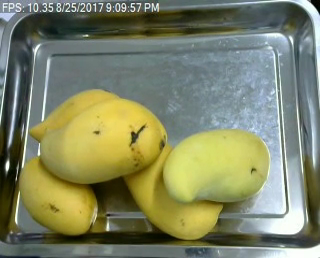Mango: (37, 97, 163, 184), (122, 141, 227, 240), (165, 125, 264, 205), (18, 156, 97, 233), (28, 86, 120, 145)
